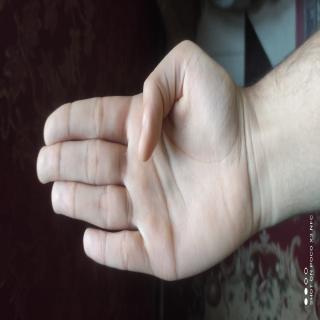KAAF: (14, 71, 129, 320)
